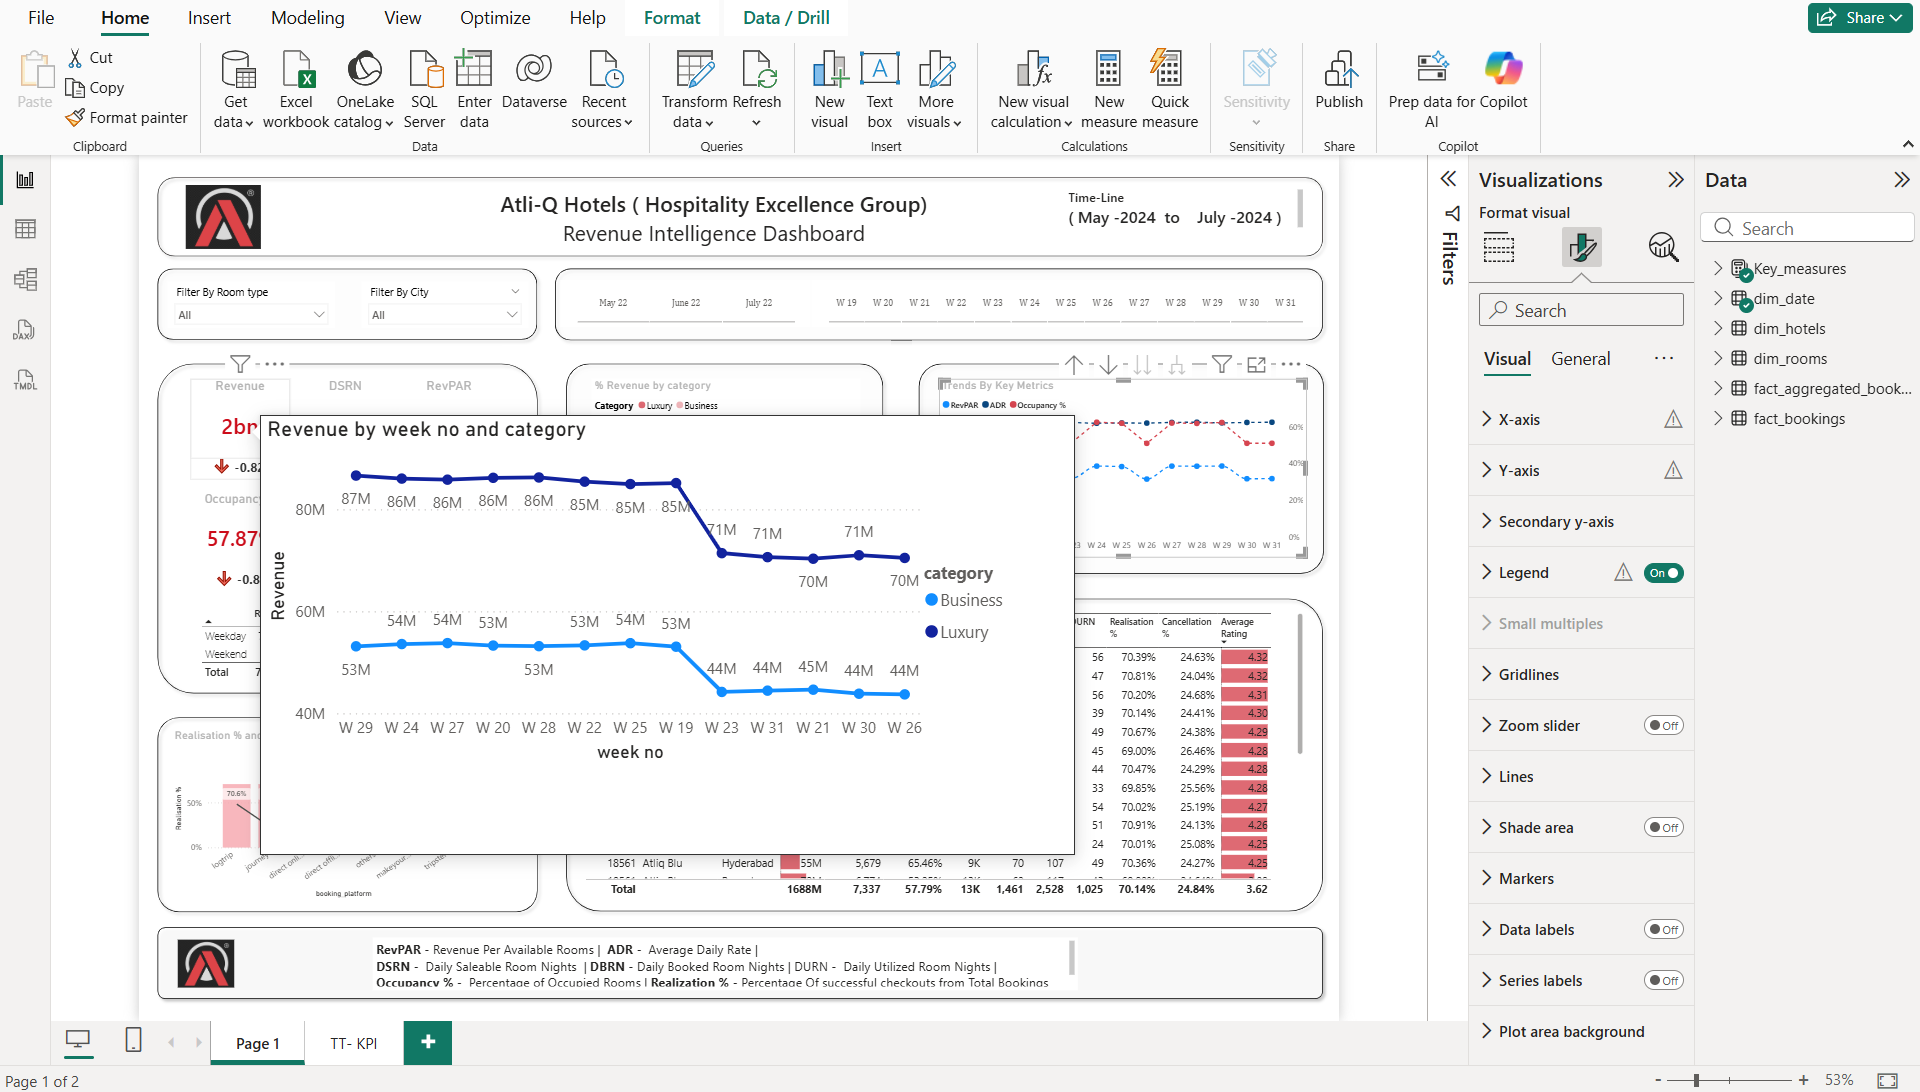

The dashboard page shown, as its layout file describes it:
{"tool":"powerbi","page":{"name":"Page 1","canvas":[1800,1300],"ordinal":0},"visuals":[{"type":"shape","box":[616.2,160.9,1170.8,125.9],"z":0},{"type":"shape","box":[19.4,161.3,588,125],"z":1000},{"type":"slicer","fields":{"Values":["dim_rooms.room_class"]},"box":[43.4,189.3,251,70],"z":3000},{"type":"slicer","title":"Filter By City","fields":{"Values":["dim_hotels.city"]},"box":[333.4,189.3,250,70],"z":4000},{"type":"tableEx","fields":{"Values":["Key_measures.Revenue WoW change %"]},"box":[102.2,420.3,99.5,67],"z":5000,"group":"g4"},{"type":"shape","box":[632.6,303.1,493.8,333.6],"z":7000},{"type":"card","title":"Revenue","fields":{"Values":["Key_measures.Revenue"]},"box":[76.9,335.5,150,120],"z":7000,"group":"g4"},{"type":"slicer","fields":{"Values":["dim_date.week no"]},"box":[1008.7,187,762,70.3],"z":8000},{"type":"slicer","fields":{"Values":["dim_date.mmm yy"]},"box":[632.6,187,376.1,70.3],"z":9000},{"type":"shape","box":[19.4,303.1,588.7,513.4],"z":10000},{"type":"group","id":"g1","title":"Group 4","box":[79.5,503.8,150.4,152],"z":11000},{"type":"tableEx","fields":{"Values":["Key_measures.Revenue WoW change %"]},"box":[415.3,419.4,99.7,68.7],"z":12000,"group":"g5"},{"type":"group","id":"g2","title":"Group 5","box":[237.2,503.8,150,152],"z":12000},{"type":"tableEx","fields":{"Values":["Key_measures.Revenue WoW change %"]},"box":[259,417,99.7,73.6],"z":13000,"group":"g6"},{"type":"group","id":"g3","title":"Group 6","box":[392.3,503.8,150,152],"z":13000},{"type":"group","id":"g4","title":"Group 1","box":[76.9,335.5,150,152.1],"z":14000},{"type":"card","title":"DSRN","fields":{"Values":["Key_measures.DSRN"]},"box":[233.7,335.5,150.4,120],"z":14000,"group":"g6"},{"type":"group","id":"g5","title":"Group 2","box":[390,335.5,150.4,152.6],"z":15000},{"type":"card","title":"RevPAR","fields":{"Values":["Key_measures.RevPAR"]},"box":[390,335.5,150.4,120],"z":15000,"group":"g5"},{"type":"group","id":"g6","title":"Group 3","box":[233.7,335.5,150.4,155.1],"z":16000},{"type":"tableEx","fields":{"Values":["dim_date.day_type","Key_measures.RevPAR","Key_measures.Occupancy %","Key_measures.ADR","Key_measures.Realisation %"]},"box":[88.4,670.7,448,127.5],"z":17000},{"type":"shape","box":[1160.7,303.1,626.3,333.6],"z":18000},{"type":"tableEx","fields":{"Values":["Key_measures.Revenue WoW change %"]},"box":[104.8,587.9,99.7,67.9],"z":19000,"group":"g1"},{"type":"shape","box":[19.4,834.6,588.7,310.7],"z":19000},{"type":"tableEx","fields":{"Values":["Key_measures.Revenue WoW change %"]},"box":[261.9,587.9,100.5,67.9],"z":20000,"group":"g2"},{"type":"shape","box":[632.4,656.8,1154,487.9],"z":20000},{"type":"card","title":"Occupancy %","fields":{"Values":["Key_measures.Occupancy %"]},"box":[79.5,503.8,150.4,118],"z":20500,"group":"g1"},{"type":"tableEx","fields":{"Values":["Key_measures.Revenue WoW change %"]},"box":[417,587.9,100.5,67.9],"z":20750,"group":"g3"},{"type":"card","title":"Realisation %","fields":{"Values":["Key_measures.Realisation %"]},"box":[237.2,503.8,150,118],"z":21000,"group":"g2"},{"type":"shape","box":[18.8,1150.3,1767.6,125.7],"z":21000},{"type":"card","title":"ADR","fields":{"Values":["Key_measures.ADR"]},"box":[392.3,503.8,150,118],"z":21500,"group":"g3"},{"type":"image","box":[58.2,1174.7,84.4,78.8],"z":22000},{"type":"textbox","box":[350.9,1174.7,1058.3,78.8],"z":23000},{"type":"shape","box":[18.8,24.4,1767.6,137],"z":24000},{"type":"textbox","box":[457.9,46.9,810.6,95.7],"z":25000},{"type":"textbox","box":[1390.5,46.9,362.2,75.1],"z":26000},{"type":"image","box":[58.2,45,137,95.7],"z":27000},{"type":"donutChart","title":"% Revenue by category","fields":{"Category":["dim_hotels.category"],"Y":["Key_measures.Revenue"]},"box":[678.3,335.8,403.9,268.2],"z":28000},{"type":"lineChart","title":"Trends By Key Metrics","fields":{"Category":["dim_date.mmm yy.Variation.Date Hierarchy.Month","dim_date.week no"],"Y":["Key_measures.RevPAR","Key_measures.ADR"],"Y2":["Key_measures.Occupancy %"]},"box":[1201.6,335.8,551.1,268.2],"z":28500},{"type":"lineClusteredColumnComboChart","fields":{"Category":["fact_bookings.booking_platform"],"Y2":["Key_measures.ADR"],"Y":["Key_measures.Realisation %"]},"box":[48.8,860.7,529.8,258.4],"z":29000},{"type":"tableEx","fields":{"Values":["dim_hotels.property_id","dim_hotels.property_name","dim_hotels.city","Key_measures.Revenue","Key_measures.RevPAR","Key_measures.Occupancy %","Key_measures.ADR","Key_measures.DBRN","Key_measures.DSRN","Key_measures.DURN","Key_measures.Realisation %","Key_measures.Cancellation %"]},"box":[664.3,683,1088.3,437.2],"z":29500}]}

Visuals, with their boxes on the page's 1800x1300 design canvas (x1, y1, x2, y2). These are canvas units, not pixel positions in the 1920x1092 screenshot, which may show the page scaled, cropped or inside an application window:
shape: [616, 161, 1787, 287]
shape: [19, 161, 607, 286]
slicer - dim_rooms.room_class: [43, 189, 294, 259]
"Filter By City" slicer: [333, 189, 583, 259]
tableEx - Key_measures.Revenue WoW change %: [102, 420, 202, 487]
shape: [633, 303, 1126, 637]
"Revenue" card: [77, 336, 227, 456]
slicer - dim_date.week no: [1009, 187, 1771, 257]
slicer - dim_date.mmm yy: [633, 187, 1009, 257]
shape: [19, 303, 608, 816]
"Group 4" group: [80, 504, 230, 656]
tableEx - Key_measures.Revenue WoW change %: [415, 419, 515, 488]
"Group 5" group: [237, 504, 387, 656]
tableEx - Key_measures.Revenue WoW change %: [259, 417, 359, 491]
"Group 6" group: [392, 504, 542, 656]
"Group 1" group: [77, 336, 227, 488]
"DSRN" card: [234, 336, 384, 456]
"Group 2" group: [390, 336, 540, 488]
"RevPAR" card: [390, 336, 540, 456]
"Group 3" group: [234, 336, 384, 491]
tableEx - dim_date.day_type x Key_measures.RevPAR: [88, 671, 536, 798]
shape: [1161, 303, 1787, 637]
tableEx - Key_measures.Revenue WoW change %: [105, 588, 204, 656]
shape: [19, 835, 608, 1145]
tableEx - Key_measures.Revenue WoW change %: [262, 588, 362, 656]
shape: [632, 657, 1786, 1145]
"Occupancy %" card: [80, 504, 230, 622]
tableEx - Key_measures.Revenue WoW change %: [417, 588, 518, 656]
"Realisation %" card: [237, 504, 387, 622]
shape: [19, 1150, 1786, 1276]
"ADR" card: [392, 504, 542, 622]
image: [58, 1175, 143, 1254]
textbox: [351, 1175, 1409, 1254]
shape: [19, 24, 1786, 161]
textbox: [458, 47, 1268, 143]
textbox: [1390, 47, 1753, 122]
image: [58, 45, 195, 141]
"% Revenue by category" donutChart: [678, 336, 1082, 604]
"Trends By Key Metrics" lineChart: [1202, 336, 1753, 604]
lineClusteredColumnComboChart - fact_bookings.booking_platform x Key_measures.ADR: [49, 861, 579, 1119]
tableEx - dim_hotels.property_id x dim_hotels.property_name: [664, 683, 1753, 1120]
